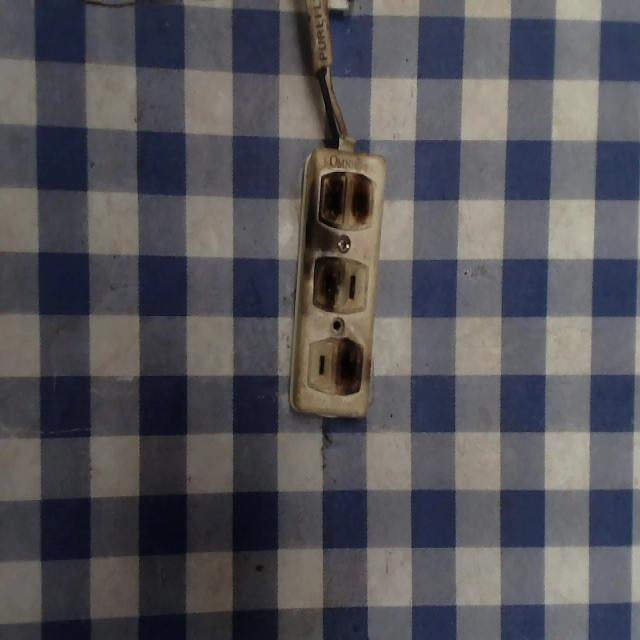-: (313, 161, 378, 235), (306, 252, 347, 309), (333, 334, 364, 398)
